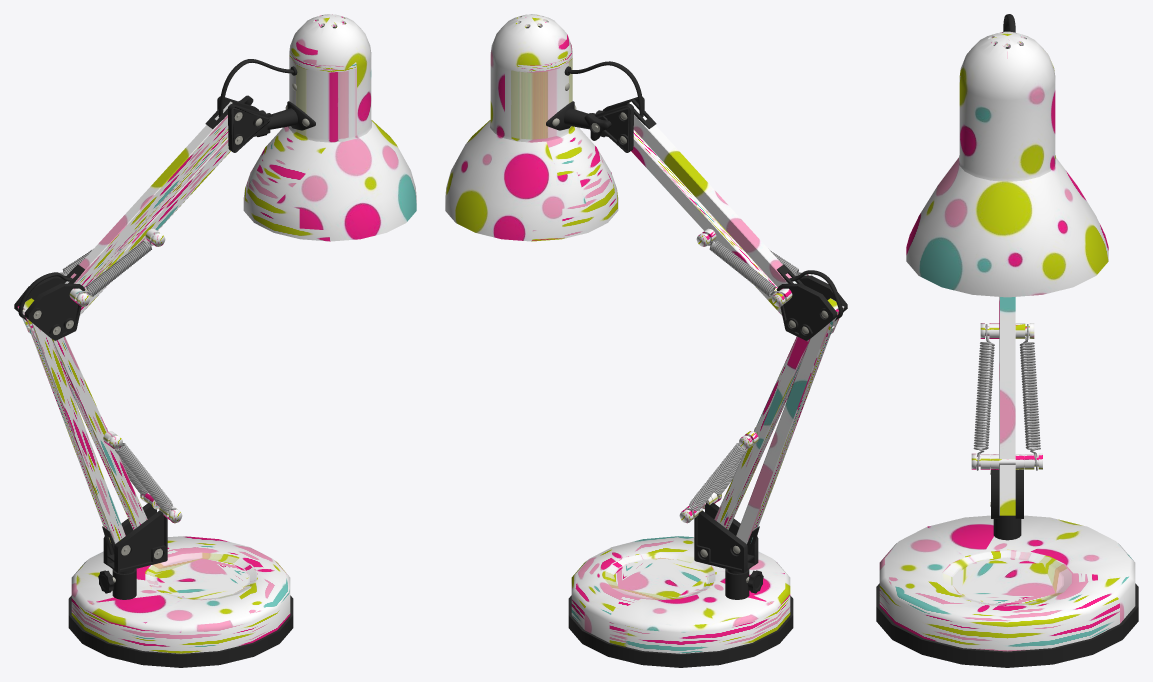
Rendered from lampara.obj.
3 views of the same model, side by side, from view 1: azimuth 30°, elevation 25°; view 2: azimuth 150°, elevation 25°; view 3: azimuth 270°, elevation 25° (orthographic). The views are drawn at different scales.
Parts seen in each view (by area): view 1: Cylinder005; view 2: Cylinder005; view 3: Cylinder005.
Part boxes in pixels (box(x1,y1,x2,y2)): Cylinder005: box(14, 14, 416, 667); Cylinder005: box(445, 14, 847, 667); Cylinder005: box(876, 14, 1138, 667).
Bounding box in the file's own units: 0.3138 × 0.4382 × 0.1576.
Materials: 7 (1 with a texture image).
